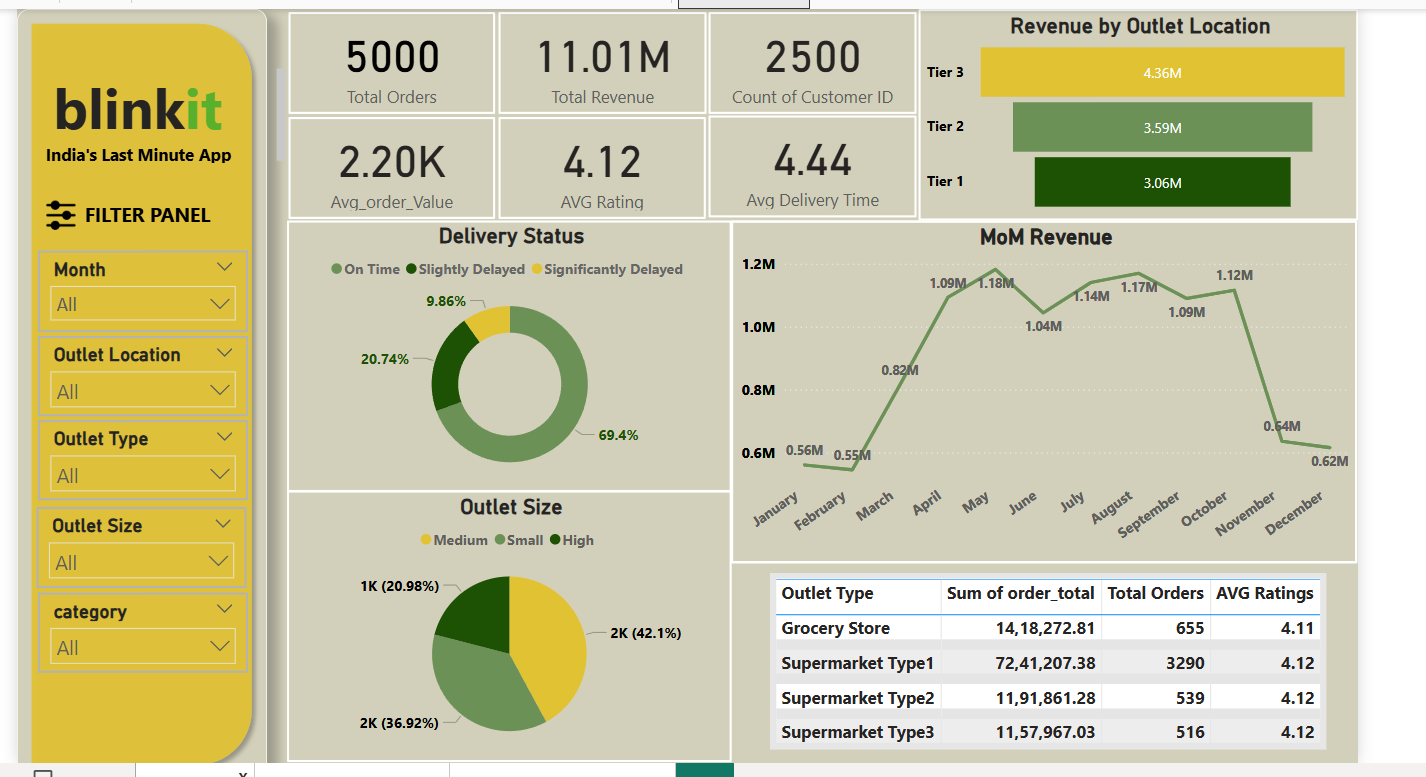

What the dashboard file says about the page in this screenshot:
{"tool":"powerbi","page":{"name":"Overall","canvas":[1280,720],"ordinal":0},"visuals":[{"type":"donutChart","title":"Delivery Status","fields":{"Y":["Measures (2).Total Orders"],"Category":["blinkit_orders.delivery_status"]},"box":[257.7,202,424.7,259.3],"z":0},{"type":"lineChart","title":"MoM Revenue","fields":{"Category":["blinkit_orders.order_date.Variation.Date Hierarchy.Month"],"Y":["Sum(blinkit_orders.order_total)"]},"box":[682.4,202,598.1,327.7],"z":1000},{"type":"card","fields":{"Values":["Measures (2).Total Orders"]},"box":[259.3,2.5,197.2,97],"z":2000},{"type":"card","fields":{"Values":["Measures (2).Total Revenue"]},"box":[460,2.5,198.8,97],"z":3000},{"type":"card","fields":{"Values":["Measures (2).Avg_order_Value"]},"box":[259.3,102.7,197.2,97],"z":4000},{"type":"tableEx","fields":{"Values":["blinkit_orders.Outlet Type","Sum(blinkit_orders.order_total)","Measures (2).Total Orders","Measures (2).AVG Ratings"]},"box":[719,539.2,531.3,168.6],"z":5000},{"type":"pieChart","title":"Outlet Size","fields":{"Category":["blinkit_orders.Outlet Size"],"Y":["Measures (2).Count of outlets"]},"box":[257.7,459.7,424.7,259.3],"z":6000},{"type":"funnel","title":"Revenue by Outlet Location ","fields":{"Category":["blinkit_orders.Outlet Location Type"],"Y":["Measures (2).Total Revenue"]},"box":[860.5,0,419.9,202],"z":7000},{"type":"card","fields":{"Values":["Measures (2).AVG Rating"]},"box":[459.7,102.7,198,97],"z":8000},{"type":"shape","box":[0,0,238.6,736.5],"z":9000},{"type":"slicer","title":"month","fields":{"Values":["blinkit_orders.order_date.Variation.Date Hierarchy.Month","blinkit_orders.order_date.Variation.Date Hierarchy.Day"]},"box":[20.7,229.9,200.4,77.9],"z":10000},{"type":"slicer","fields":{"Values":["blinkit_orders.Outlet Location Type"]},"box":[20,312.7,200.4,76.3],"z":11000},{"type":"slicer","fields":{"Values":["blinkit_orders.Outlet Type"]},"box":[20,392.2,200.4,76.3],"z":12000},{"type":"slicer","fields":{"Values":["blinkit_orders.Outlet Size"]},"box":[19.1,474.9,200.4,77],"z":13000},{"type":"card","fields":{"Values":["Measures (2).Avg Delivery Time"]},"box":[660.1,101.8,198.8,97],"z":14000},{"type":"card","fields":{"Values":["Measures (2).Count of Customer ID"]},"box":[660.1,3.2,198.8,97],"z":15000},{"type":"slicer","fields":{"Values":["blinkit_products.category"]},"box":[20.7,556.7,200.4,76.3],"z":16000},{"type":"lineChart","title":"MoM Revenue","fields":{"Category":["blinkit_orders.order_date.Variation.Date Hierarchy.Month"],"Y":["Sum(blinkit_orders.order_total)"]},"box":[681.9,202,598.1,327.7],"z":17000},{"type":"textbox","box":[0,50.9,260.9,100.2],"z":18000},{"type":"image","box":[19.1,178.1,46.1,38.2],"z":19000},{"type":"textbox","box":[55,178,155.9,41.4],"z":20000}]}

Visuals, with their boxes on the page's 1280x720 design canvas (x1, y1, x2, y2). These are canvas units, not pixel positions in the 1426x777 screenshot, which may show the page scaled, cropped or inside an application window:
"Delivery Status" donutChart: 258:202:682:461
"MoM Revenue" lineChart: 682:202:1280:530
card - Measures (2).Total Orders: 259:2:456:100
card - Measures (2).Total Revenue: 460:2:659:100
card - Measures (2).Avg_order_Value: 259:103:456:200
tableEx - blinkit_orders.Outlet Type x Sum(blinkit_orders.order_total): 719:539:1250:708
"Outlet Size" pieChart: 258:460:682:719
"Revenue by Outlet Location " funnel: 860:0:1280:202
card - Measures (2).AVG Rating: 460:103:658:200
shape: 0:0:239:736
"month" slicer: 21:230:221:308
slicer - blinkit_orders.Outlet Location Type: 20:313:220:389
slicer - blinkit_orders.Outlet Type: 20:392:220:468
slicer - blinkit_orders.Outlet Size: 19:475:220:552
card - Measures (2).Avg Delivery Time: 660:102:859:199
card - Measures (2).Count of Customer ID: 660:3:859:100
slicer - blinkit_products.category: 21:557:221:633
"MoM Revenue" lineChart: 682:202:1280:530
textbox: 0:51:261:151
image: 19:178:65:216
textbox: 55:178:211:219
